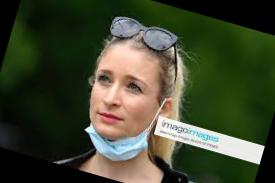mask_weared_incorrect: (85, 62, 158, 154)
